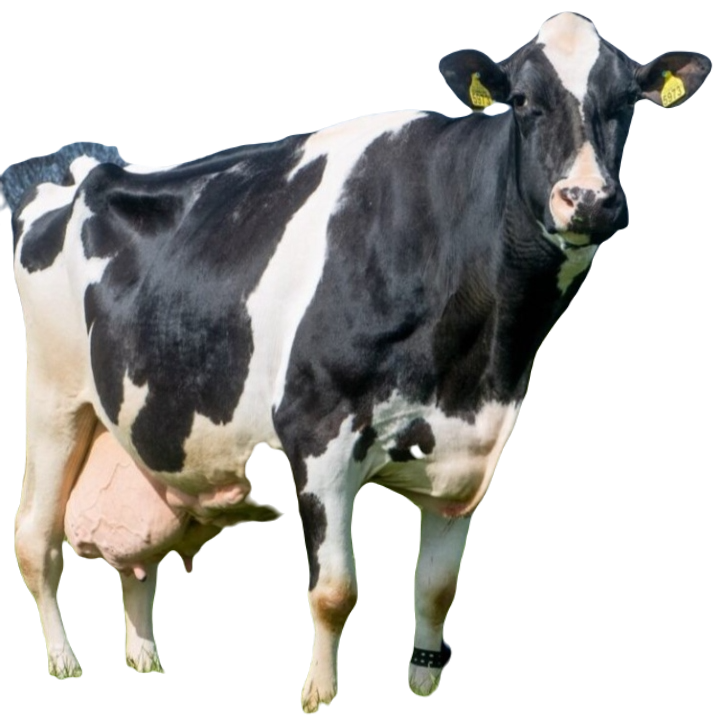Cow: (0, 7, 716, 713)
